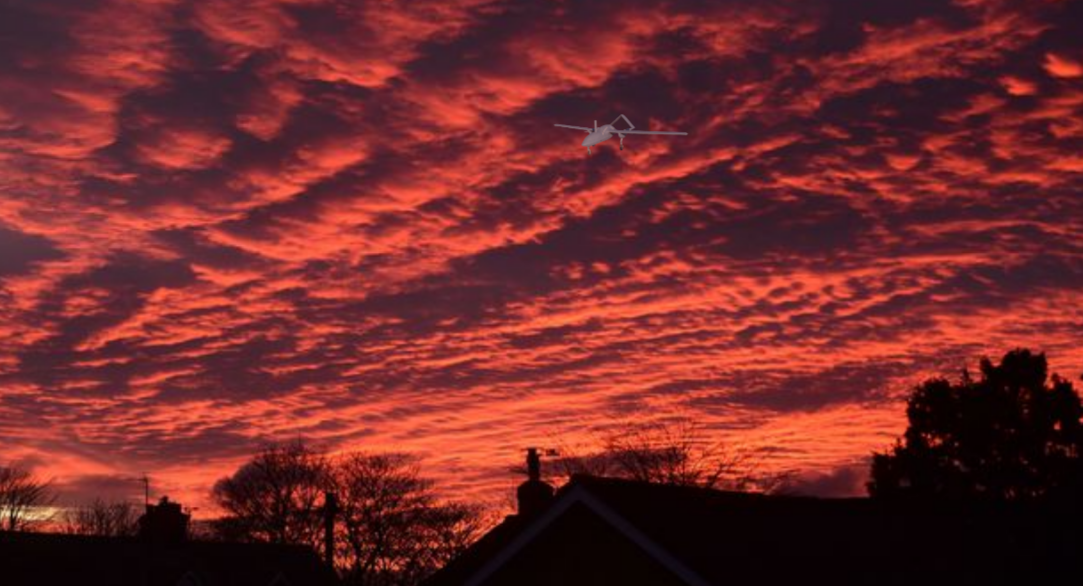military drone: (553, 114, 688, 156)
